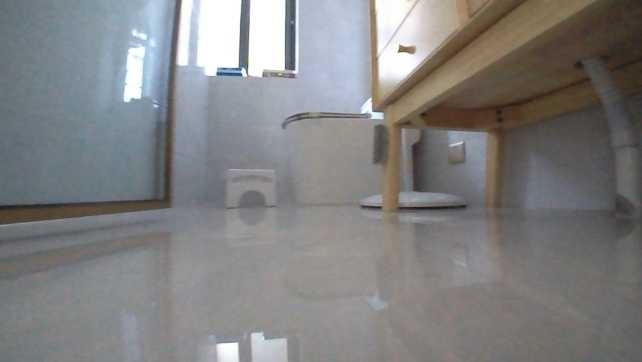chair_base: (396, 182, 469, 211)
door_anno: (0, 0, 188, 230)
toilet: (285, 98, 385, 205)
